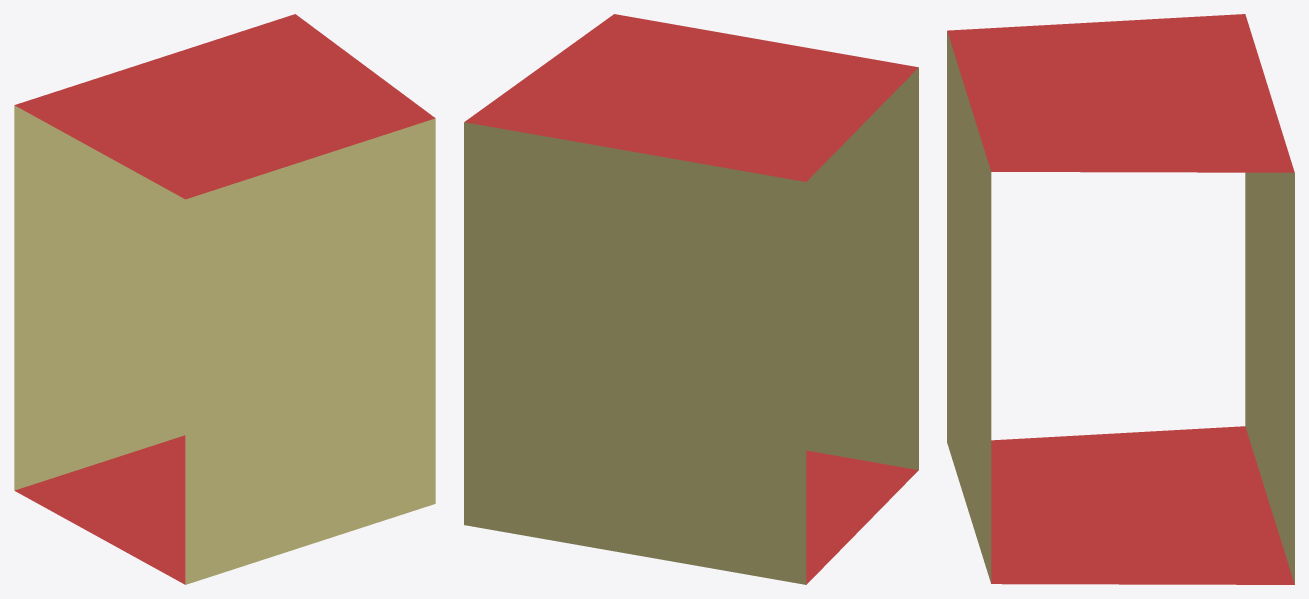
The picture shows the model from 3 angles, left to right: view 1: azimuth 30°, elevation 25°; view 2: azimuth 150°, elevation 25°; view 3: azimuth 270°, elevation 25°; orthographic projection. The views are drawn at different scales.
Size of the model in its own units: 4.88 by 4.51 by 5.9.
